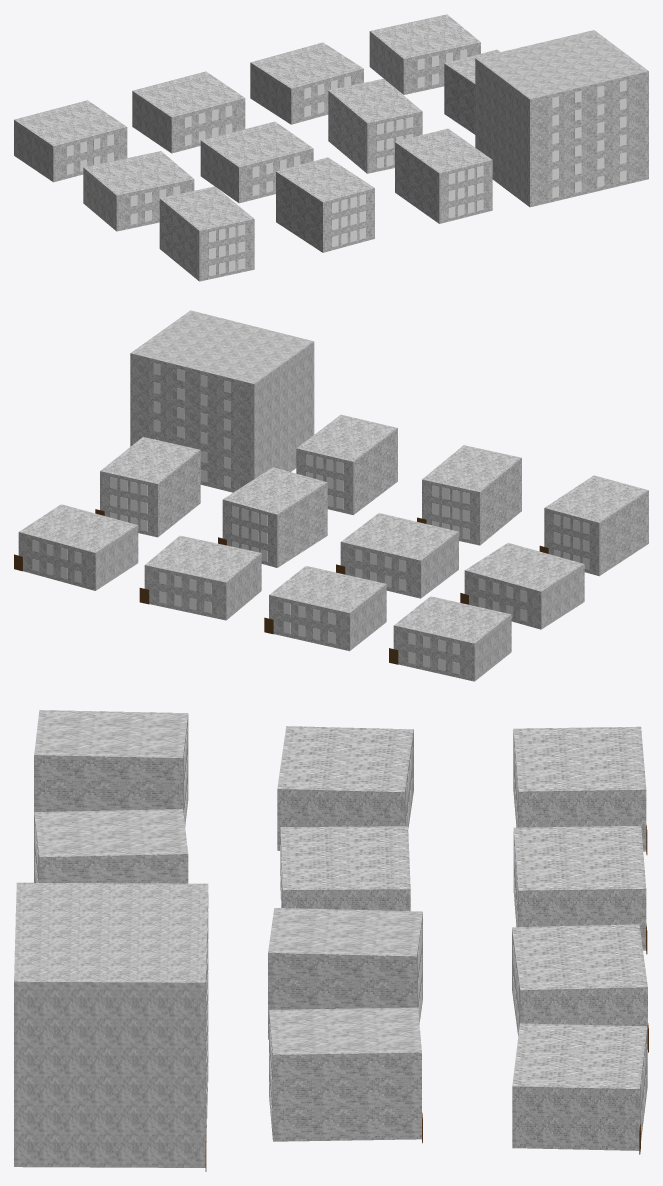
The model's file is bld_mln4qoeu_ynvvczi.glb.
The picture shows the model from 3 angles, top to bottom: view 1: azimuth 30°, elevation 25°; view 2: azimuth 150°, elevation 25°; view 3: azimuth 270°, elevation 25°; orthographic projection. The views are drawn at different scales.
Visible parts, largest first — view 1: building-building-1771122719732-18, building-building-1771122719732-16, building-building-1771122719732-17, building-building-1771122719732-15, building-building-1771122719732-6, building-building-1771122719732-5, building-building-1771122719732-12, building-building-1771122719732-7, building-building-1771122719732-11, building-building-1771122719732-10, building-building-1771122719732-8, building-building-1771122719732-13; view 2: building-building-1771122719732-18, building-building-1771122719732-8, building-building-1771122719732-12, building-building-1771122719732-15, building-building-1771122719732-7, building-building-1771122719732-5, building-building-1771122719732-6, building-building-1771122719732-10, building-building-1771122719732-13, building-building-1771122719732-16, building-building-1771122719732-11, building-building-1771122719732-17; view 3: building-building-1771122719732-18, building-building-1771122719732-13, building-building-1771122719732-8, building-building-1771122719732-15, building-building-1771122719732-12, building-building-1771122719732-10, building-building-1771122719732-7, building-building-1771122719732-5, building-building-1771122719732-6, building-building-1771122719732-16, building-building-1771122719732-11.
Part boxes in pixels (left/top/right/bottom): building-building-1771122719732-18: left=475, top=30, right=648, bottom=207; building-building-1771122719732-16: left=276, top=157, right=374, bottom=252; building-building-1771122719732-17: left=395, top=128, right=492, bottom=223; building-building-1771122719732-15: left=159, top=186, right=254, bottom=281; building-building-1771122719732-6: left=132, top=71, right=245, bottom=153; building-building-1771122719732-5: left=14, top=100, right=127, bottom=182; building-building-1771122719732-12: left=328, top=78, right=422, bottom=173; building-building-1771122719732-7: left=250, top=42, right=363, bottom=124; building-building-1771122719732-11: left=200, top=121, right=313, bottom=203; building-building-1771122719732-10: left=83, top=151, right=194, bottom=231; building-building-1771122719732-8: left=369, top=14, right=480, bottom=94; building-building-1771122719732-13: left=444, top=49, right=500, bottom=134; building-building-1771122719732-18: left=130, top=310, right=314, bottom=492; building-building-1771122719732-8: left=14, top=504, right=138, bottom=590; building-building-1771122719732-12: left=218, top=467, right=327, bottom=567; building-building-1771122719732-15: left=539, top=475, right=648, bottom=576; building-building-1771122719732-7: left=139, top=535, right=261, bottom=620; building-building-1771122719732-5: left=389, top=596, right=511, bottom=681; building-building-1771122719732-6: left=264, top=566, right=386, bottom=651; building-building-1771122719732-10: left=460, top=542, right=584, bottom=629; building-building-1771122719732-13: left=95, top=437, right=200, bottom=537; building-building-1771122719732-16: left=417, top=445, right=521, bottom=545; building-building-1771122719732-11: left=336, top=513, right=458, bottom=598; building-building-1771122719732-17: left=296, top=414, right=397, bottom=515; building-building-1771122719732-18: left=14, top=882, right=208, bottom=1171; building-building-1771122719732-13: left=269, top=1007, right=422, bottom=1143; building-building-1771122719732-8: left=512, top=1023, right=647, bottom=1154; building-building-1771122719732-15: left=34, top=710, right=188, bottom=826; building-building-1771122719732-12: left=268, top=908, right=422, bottom=1039; building-building-1771122719732-10: left=277, top=726, right=413, bottom=850; building-building-1771122719732-7: left=512, top=924, right=648, bottom=1052; building-building-1771122719732-5: left=513, top=726, right=647, bottom=854; building-building-1771122719732-6: left=513, top=826, right=647, bottom=954; building-building-1771122719732-16: left=34, top=809, right=188, bottom=883; building-building-1771122719732-11: left=280, top=826, right=410, bottom=911.
Size of the model in its own units: 85.25 by 19.23 by 59.62.
Materials: 60 (12 with a texture image).
